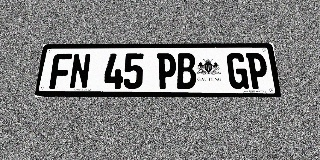4: (103, 53, 124, 89)
5: (123, 53, 144, 89)
B: (176, 53, 197, 89)
F: (49, 54, 72, 89)
G: (226, 53, 249, 89)
N: (69, 53, 91, 89)
P: (246, 53, 270, 89), (157, 53, 176, 89)
